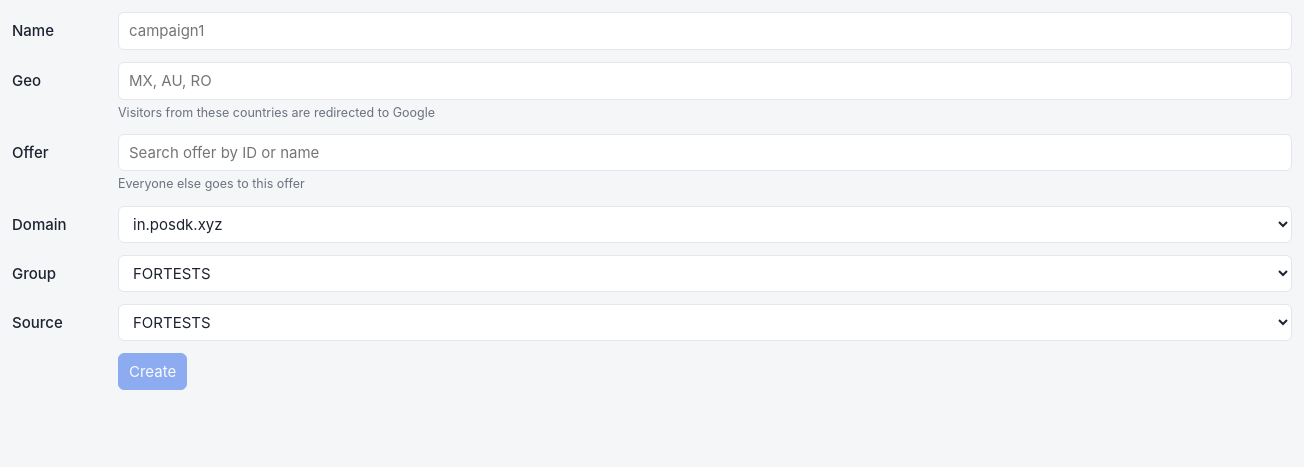
it: CampaignForm › shows validation errors from the API
Type "x" into the field labelled "Name".
click(705, 31); type("x")  # box top-left (118, 12), bottom-right (1292, 50)
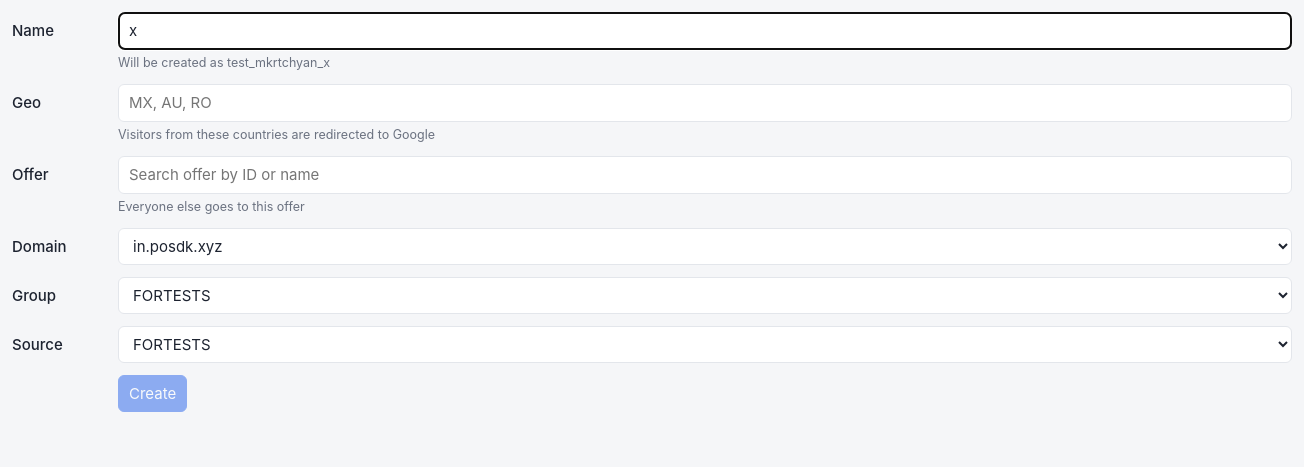
Type "XX" into the field labelled "Geo".
click(705, 103); type("XX")  # box top-left (118, 84), bottom-right (1292, 122)
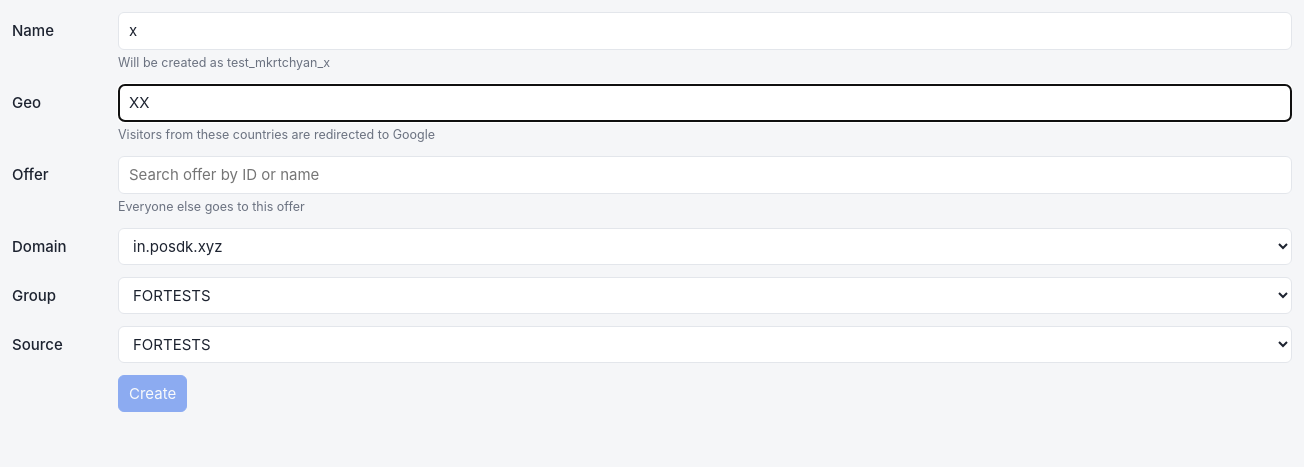
Type "fito" into the dropdown labelled "Offer".
click(705, 175); type("fito")  # box top-left (118, 156), bottom-right (1292, 194)
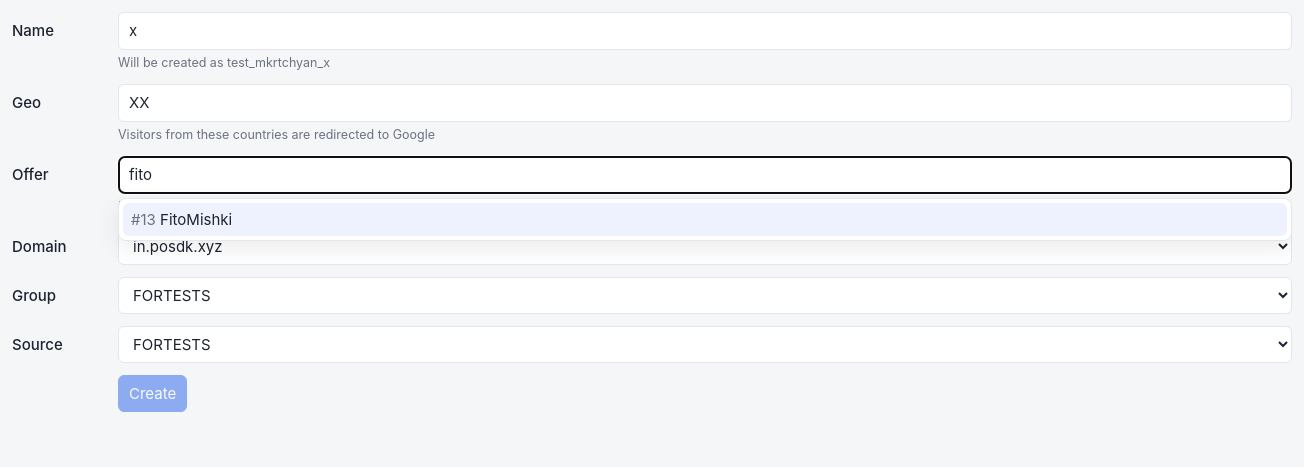
Click the option "#13 FitoMishki".
click(196, 219)  # box top-left (123, 202), bottom-right (1287, 236)
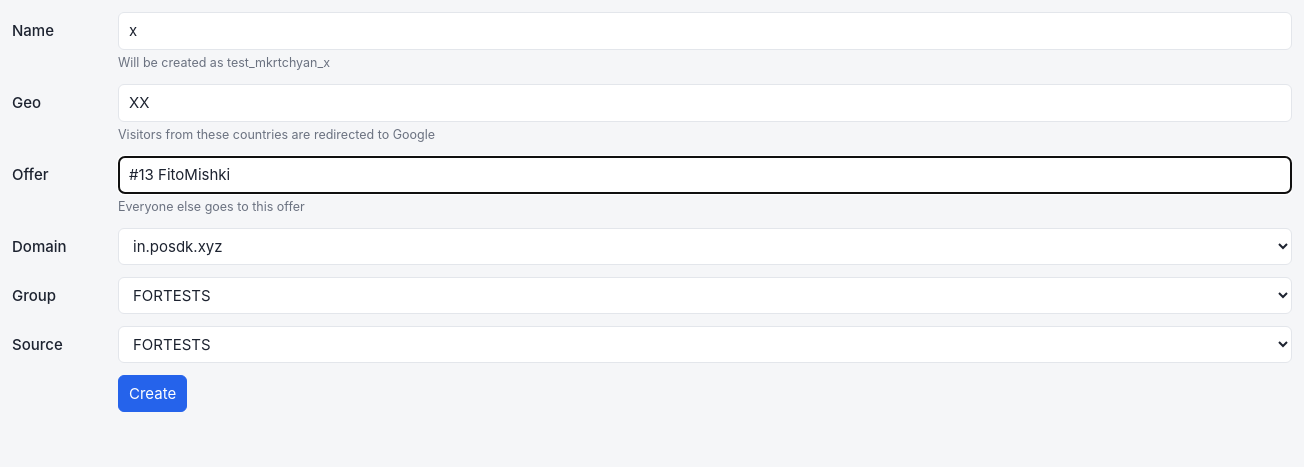
Click the button "Create".
click(153, 394)  # box top-left (118, 375), bottom-right (187, 412)
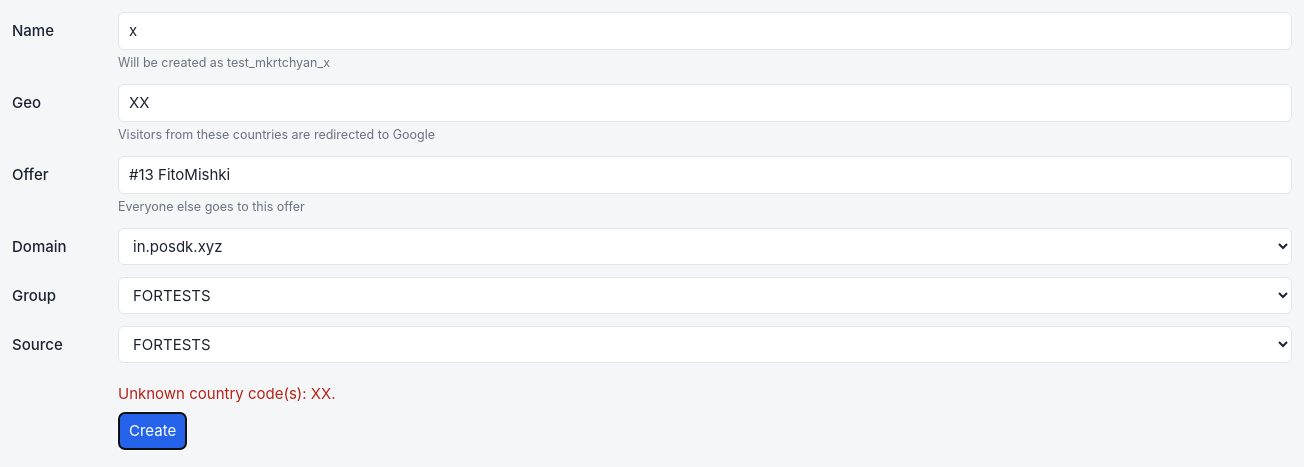
Expected: the message reads "Unknown country code(s): XX.", top-left (118, 384), bottom-right (336, 403)
